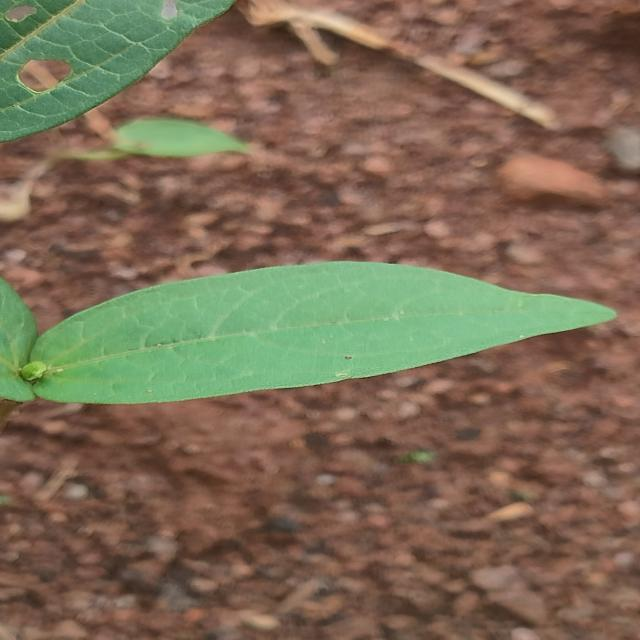Black gram_healthy: (14, 260, 622, 402)
